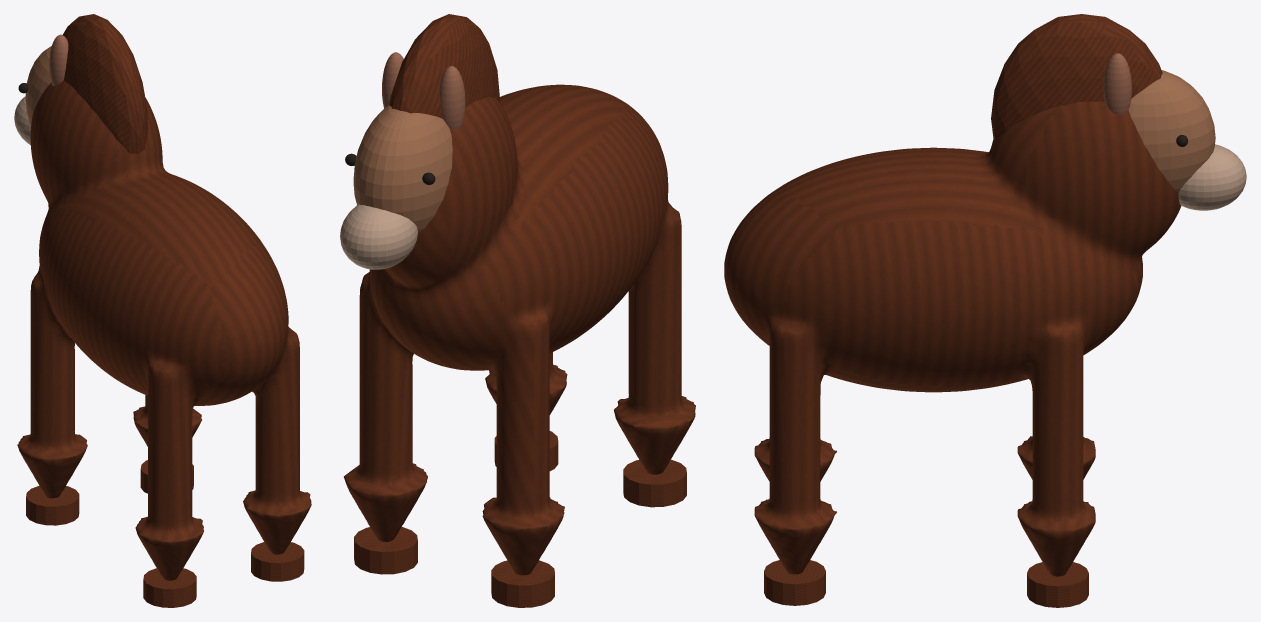
Rendered from horse_weld_review.glb.
3 renders of one model, left to right at view 1: azimuth 30°, elevation 25°; view 2: azimuth 150°, elevation 25°; view 3: azimuth 270°, elevation 25°, orthographic. The views are drawn at different scales.
Visible parts, largest first — view 1: welded_body_review, blond_mane, leg_FL_hoof, leg_HR_hoof, leg_HL_hoof, horse_head_proxy, horse_ear_proxy_-1, horse_muzzle_proxy; view 2: welded_body_review, horse_head_proxy, blond_mane, horse_muzzle_proxy, leg_FR_hoof, leg_FL_hoof, leg_HL_hoof, horse_ear_proxy_-1, horse_ear_proxy_1; view 3: welded_body_review, blond_mane, horse_head_proxy, horse_muzzle_proxy, leg_FR_hoof, leg_HR_hoof, horse_ear_proxy_1.
Part boxes in pixels (x1,y1,x2,y2): welded_body_review: [17, 80, 311, 580]; blond_mane: [63, 14, 148, 154]; leg_FL_hoof: [26, 485, 79, 525]; leg_HR_hoof: [251, 542, 304, 581]; leg_HL_hoof: [143, 568, 196, 607]; horse_head_proxy: [25, 46, 51, 125]; horse_ear_proxy_-1: [49, 34, 68, 85]; horse_muzzle_proxy: [14, 96, 30, 144]; welded_body_review: [344, 84, 695, 575]; horse_head_proxy: [353, 105, 452, 233]; blond_mane: [389, 14, 500, 118]; horse_muzzle_proxy: [340, 204, 417, 269]; leg_FR_hoof: [354, 527, 417, 574]; leg_FL_hoof: [491, 560, 554, 607]; leg_HL_hoof: [623, 459, 686, 507]; horse_ear_proxy_-1: [440, 66, 465, 129]; horse_ear_proxy_1: [382, 52, 403, 108]; welded_body_review: [724, 101, 1181, 576]; blond_mane: [991, 14, 1162, 140]; horse_head_proxy: [1128, 70, 1215, 192]; horse_muzzle_proxy: [1178, 144, 1246, 210]; leg_FR_hoof: [1027, 562, 1088, 607]; leg_HR_hoof: [764, 560, 825, 605]; horse_ear_proxy_1: [1103, 53, 1131, 114].
Size of the model in its own units: 0.9565 by 2.53 by 2.19.
Materials: 7 (1 with a texture image).
